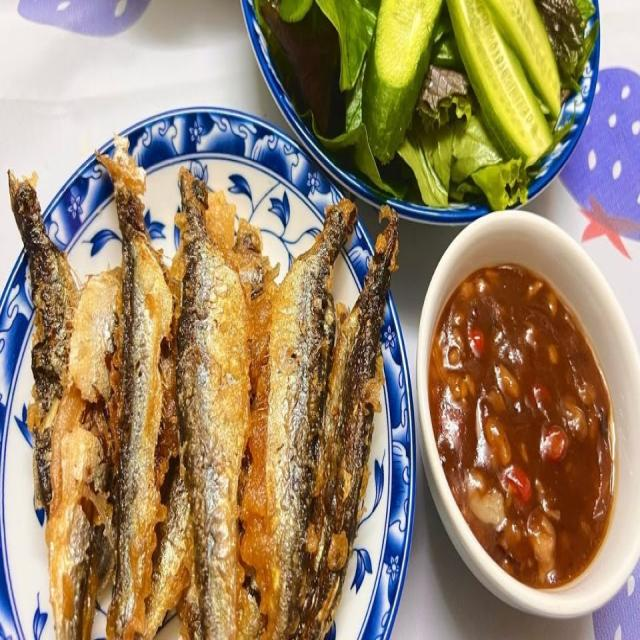ca chien: (239, 200, 353, 639), (287, 206, 397, 639), (97, 141, 177, 639), (176, 179, 249, 639), (45, 265, 123, 639), (8, 171, 79, 519)
dua leo: (362, 0, 559, 165)
